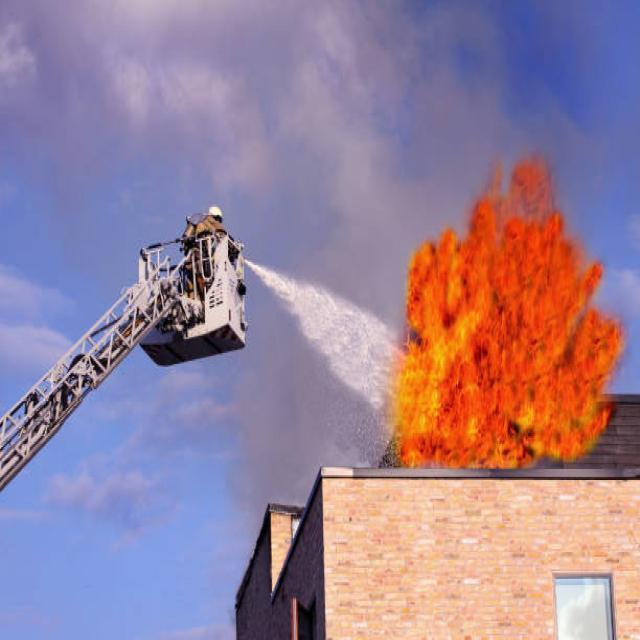Fire: (398, 168, 620, 464)
